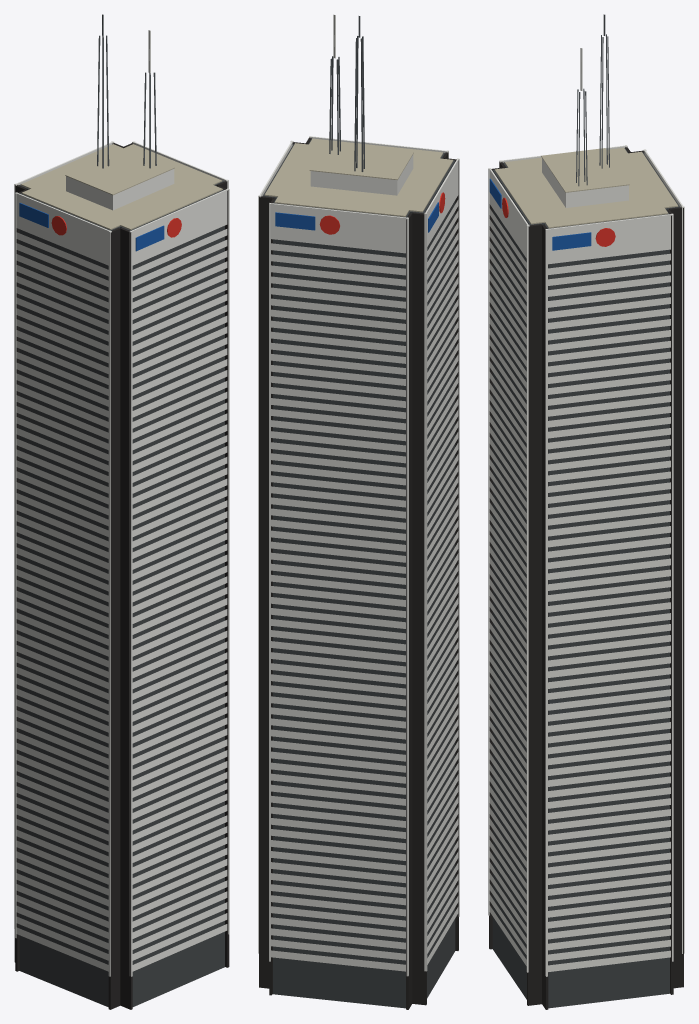
File: first-canadian-place-far.glb
3 views of the same model, side by side, from view 1: azimuth 30°, elevation 25°; view 2: azimuth 150°, elevation 25°; view 3: azimuth 270°, elevation 25° (orthographic).
Visible parts, largest first — view 1: first-canadian-place-0-frit, first-canadian-place-0-glass, first-canadian-place-0-bronze, first-canadian-place-0-roof, first-canadian-place-0-metal, first-canadian-place-0-sign; view 2: first-canadian-place-0-frit, first-canadian-place-0-glass, first-canadian-place-0-bronze, first-canadian-place-0-roof, first-canadian-place-0-metal, first-canadian-place-0-sign; view 3: first-canadian-place-0-frit, first-canadian-place-0-glass, first-canadian-place-0-bronze, first-canadian-place-0-roof, first-canadian-place-0-metal, first-canadian-place-0-sign.
Part boxes in pixels (x1=…): first-canadian-place-0-frit: x1=14, y1=141, x2=229, y2=976; first-canadian-place-0-glass: x1=19, y1=180, x2=224, y2=1007; first-canadian-place-0-bronze: x1=14, y1=143, x2=229, y2=1009; first-canadian-place-0-roof: x1=21, y1=144, x2=222, y2=229; first-canadian-place-0-metal: x1=97, y1=14, x2=156, y2=168; first-canadian-place-0-sign: x1=19, y1=203, x2=164, y2=251; first-canadian-place-0-frit: x1=258, y1=136, x2=459, y2=976; first-canadian-place-0-glass: x1=263, y1=138, x2=455, y2=1008; first-canadian-place-0-bronze: x1=259, y1=138, x2=458, y2=1009; first-canadian-place-0-roof: x1=264, y1=138, x2=453, y2=216; first-canadian-place-0-metal: x1=329, y1=16, x2=364, y2=171; first-canadian-place-0-sign: x1=275, y1=202, x2=438, y2=232; first-canadian-place-0-frit: x1=488, y1=145, x2=684, y2=976; first-canadian-place-0-glass: x1=492, y1=148, x2=679, y2=1008; first-canadian-place-0-bronze: x1=489, y1=147, x2=683, y2=1009; first-canadian-place-0-roof: x1=494, y1=147, x2=678, y2=228; first-canadian-place-0-metal: x1=576, y1=14, x2=609, y2=186; first-canadian-place-0-sign: x1=489, y1=178, x2=591, y2=250.
Bounding box in the file's own units: 68.26 × 355 × 66.58.
